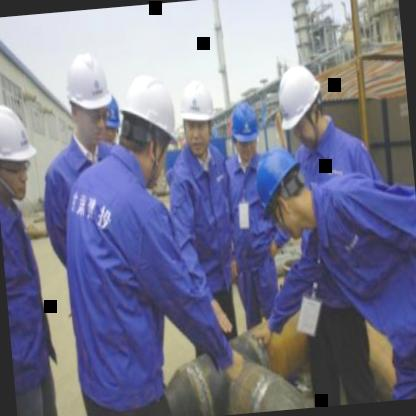helmet: (114, 63, 178, 177), (61, 40, 119, 152), (250, 146, 316, 236), (278, 63, 334, 155), (0, 96, 41, 199), (177, 73, 221, 157), (227, 101, 262, 165)
